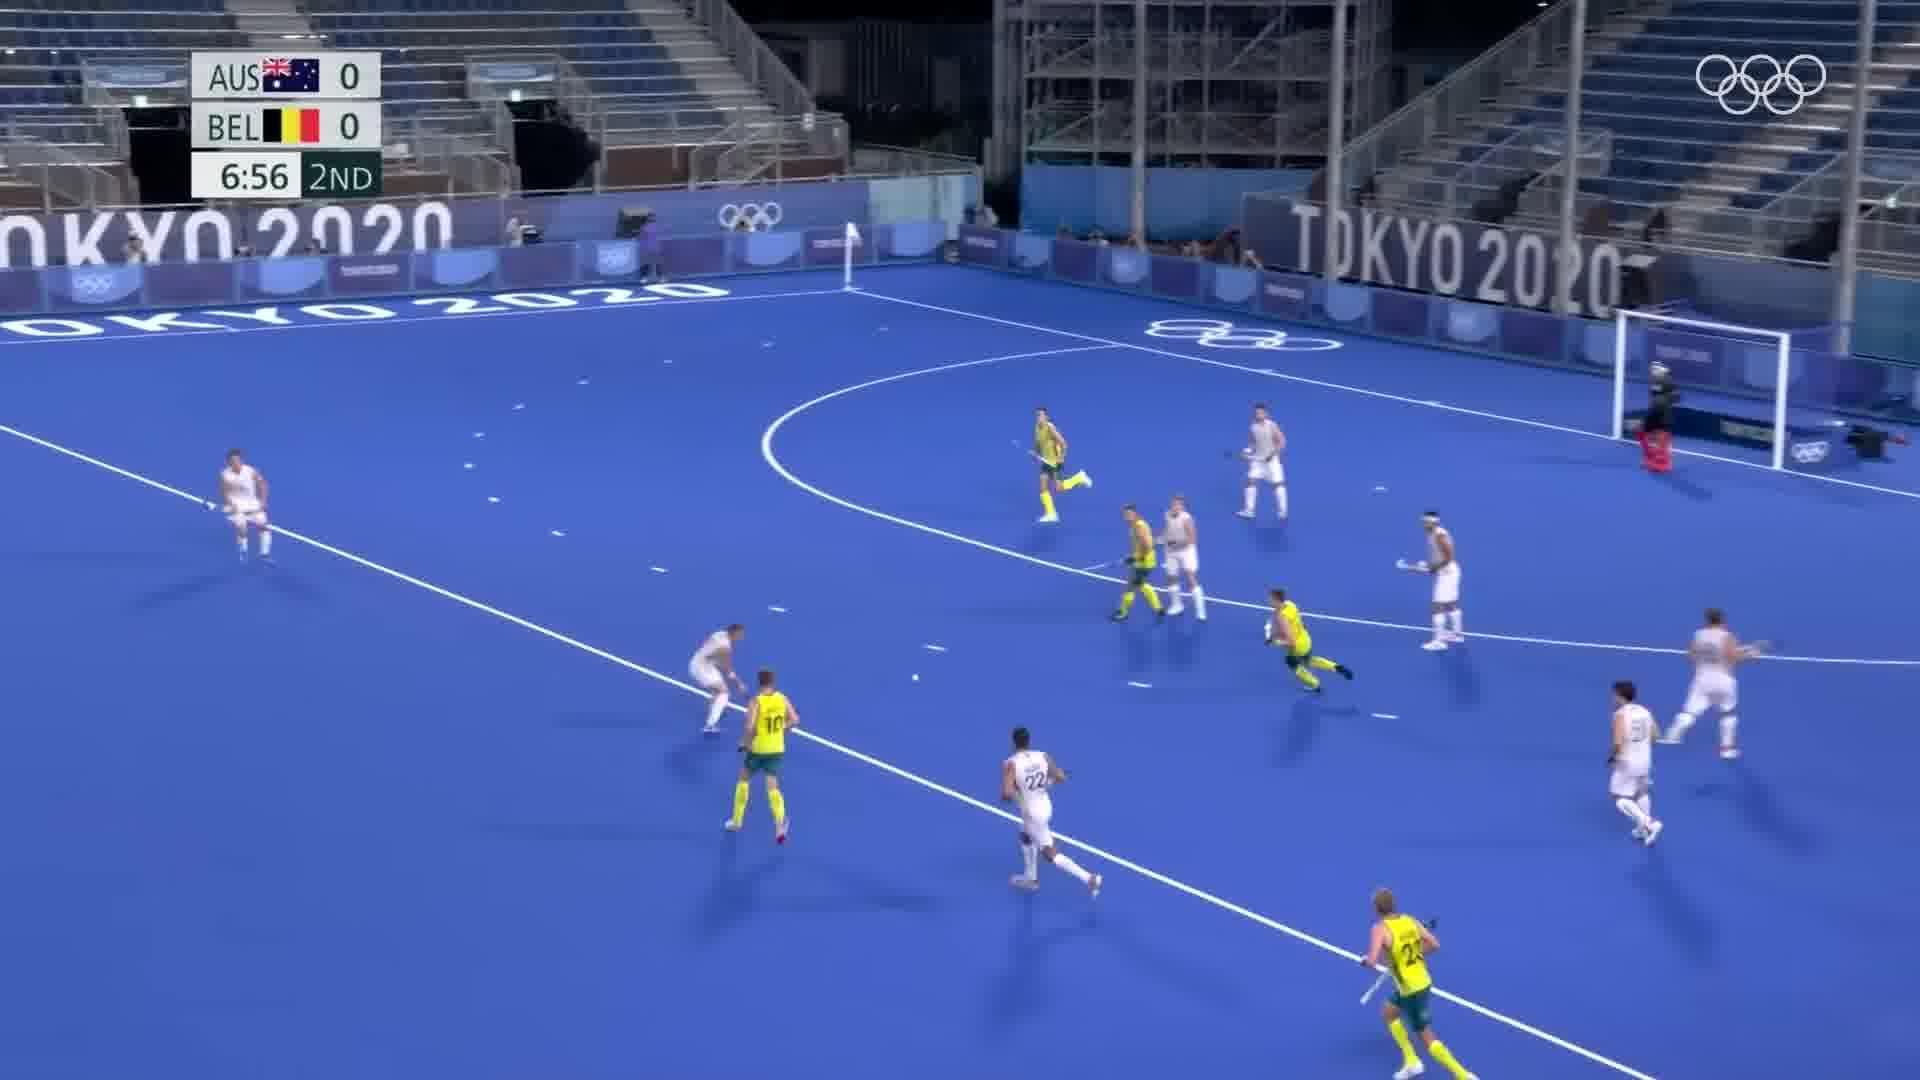ball: (905, 672, 924, 687)
